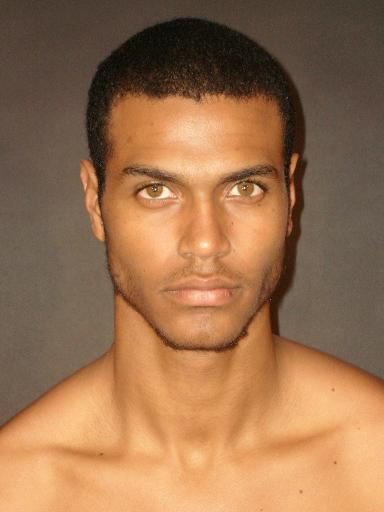left_eye: (219, 178, 271, 204)
left_lip_corner: (228, 280, 246, 297)
right_eye: (131, 183, 183, 208)
right_lip_corner: (157, 284, 175, 301)
